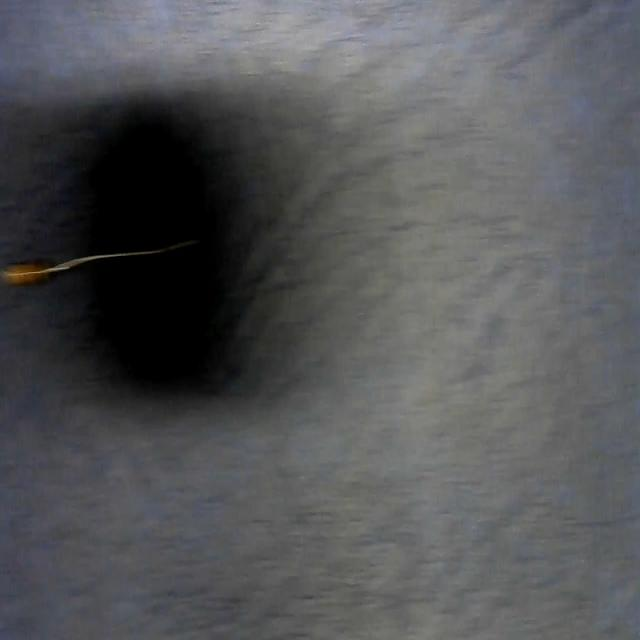resistor: (0, 244, 198, 286)
